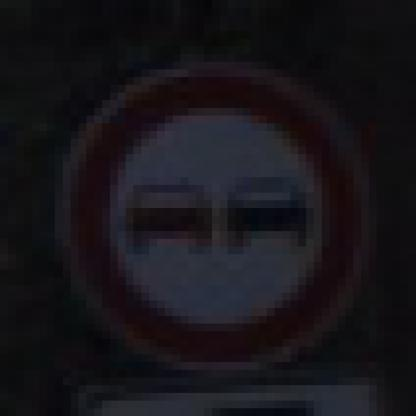No Overtaking: (48, 47, 378, 379)
